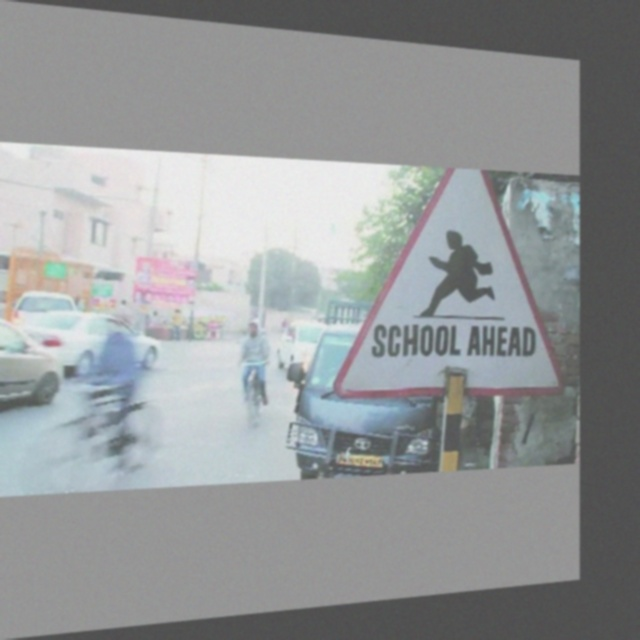School_Ahead: (358, 186, 550, 378)
